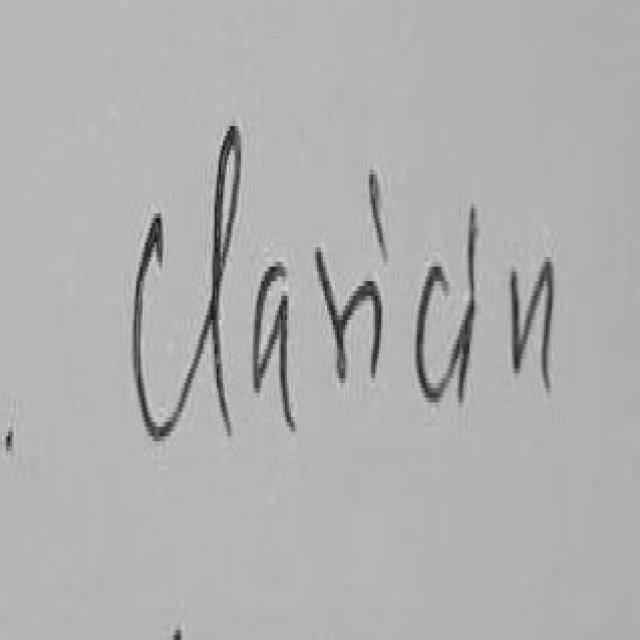C: (132, 213, 181, 439)
a: (255, 267, 297, 429)
c: (417, 267, 452, 400)
i: (448, 298, 475, 404), (371, 170, 389, 259), (370, 276, 383, 381)
l: (172, 126, 241, 429)
n: (510, 246, 556, 391)
r: (317, 247, 370, 381)
